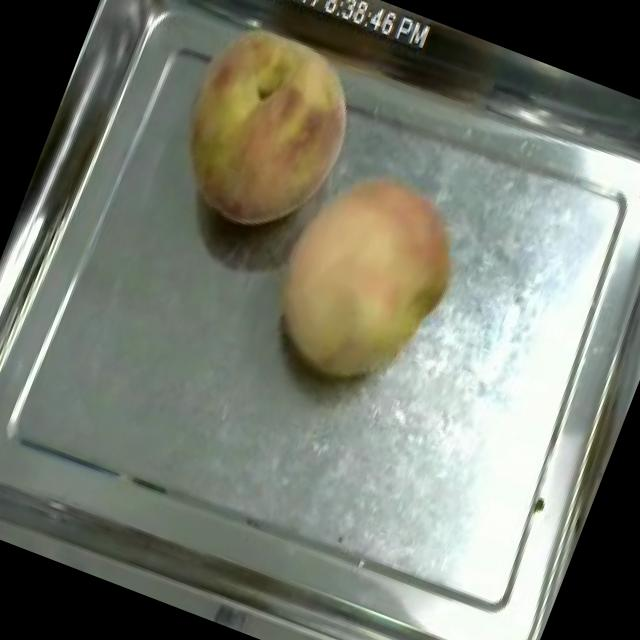Fruit: (242, 136, 488, 416), (146, 0, 385, 260)
